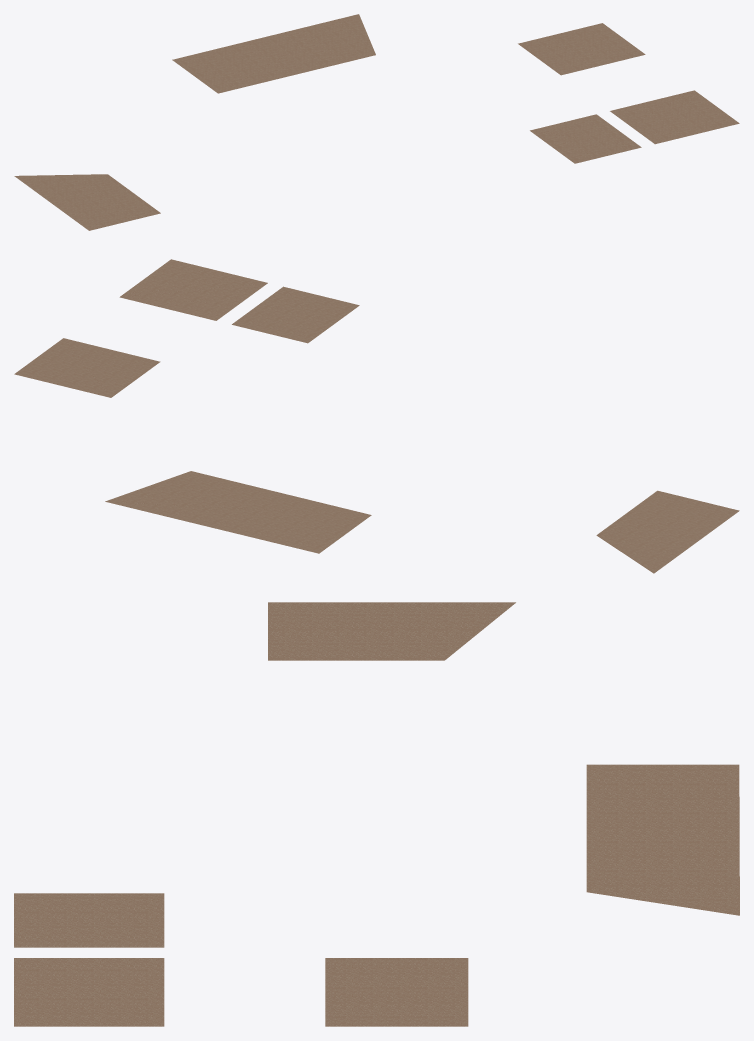
The model's file is kd_stage_135ebf_1_11.glb.
3 views of the same model, one above another, from view 1: azimuth 30°, elevation 25°; view 2: azimuth 150°, elevation 25°; view 3: azimuth 270°, elevation 25° (orthographic). The views are drawn at different scales.
Visible parts, largest first — view 1: kd_stage_135ebf_1_11; view 2: kd_stage_135ebf_1_11; view 3: kd_stage_135ebf_1_11.
Boxes of the visible parts, left/top/right/bottom form: kd_stage_135ebf_1_11: left=14, top=14, right=739, bottom=230; kd_stage_135ebf_1_11: left=14, top=259, right=739, bottom=573; kd_stage_135ebf_1_11: left=14, top=602, right=739, bottom=1026.
Bounding box in the file's own units: 30.64 × 1.2 × 20.3.
Materials: 1 (1 with a texture image).
